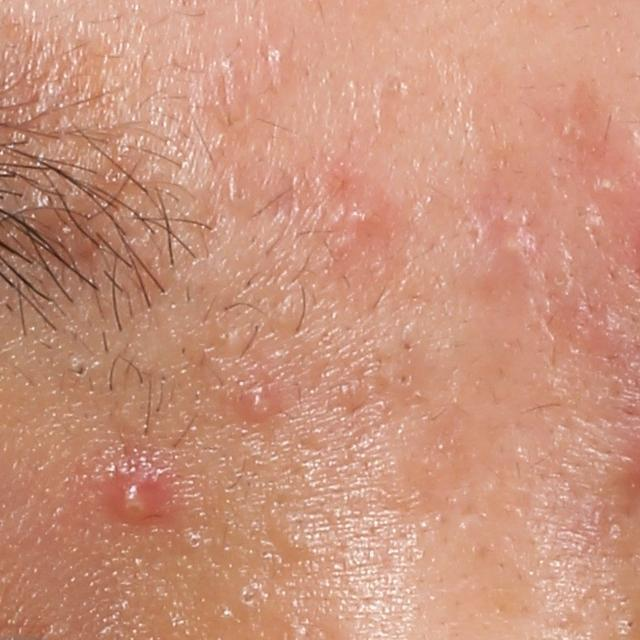comedo: (615, 617, 637, 637)
papule: (341, 197, 376, 239)
